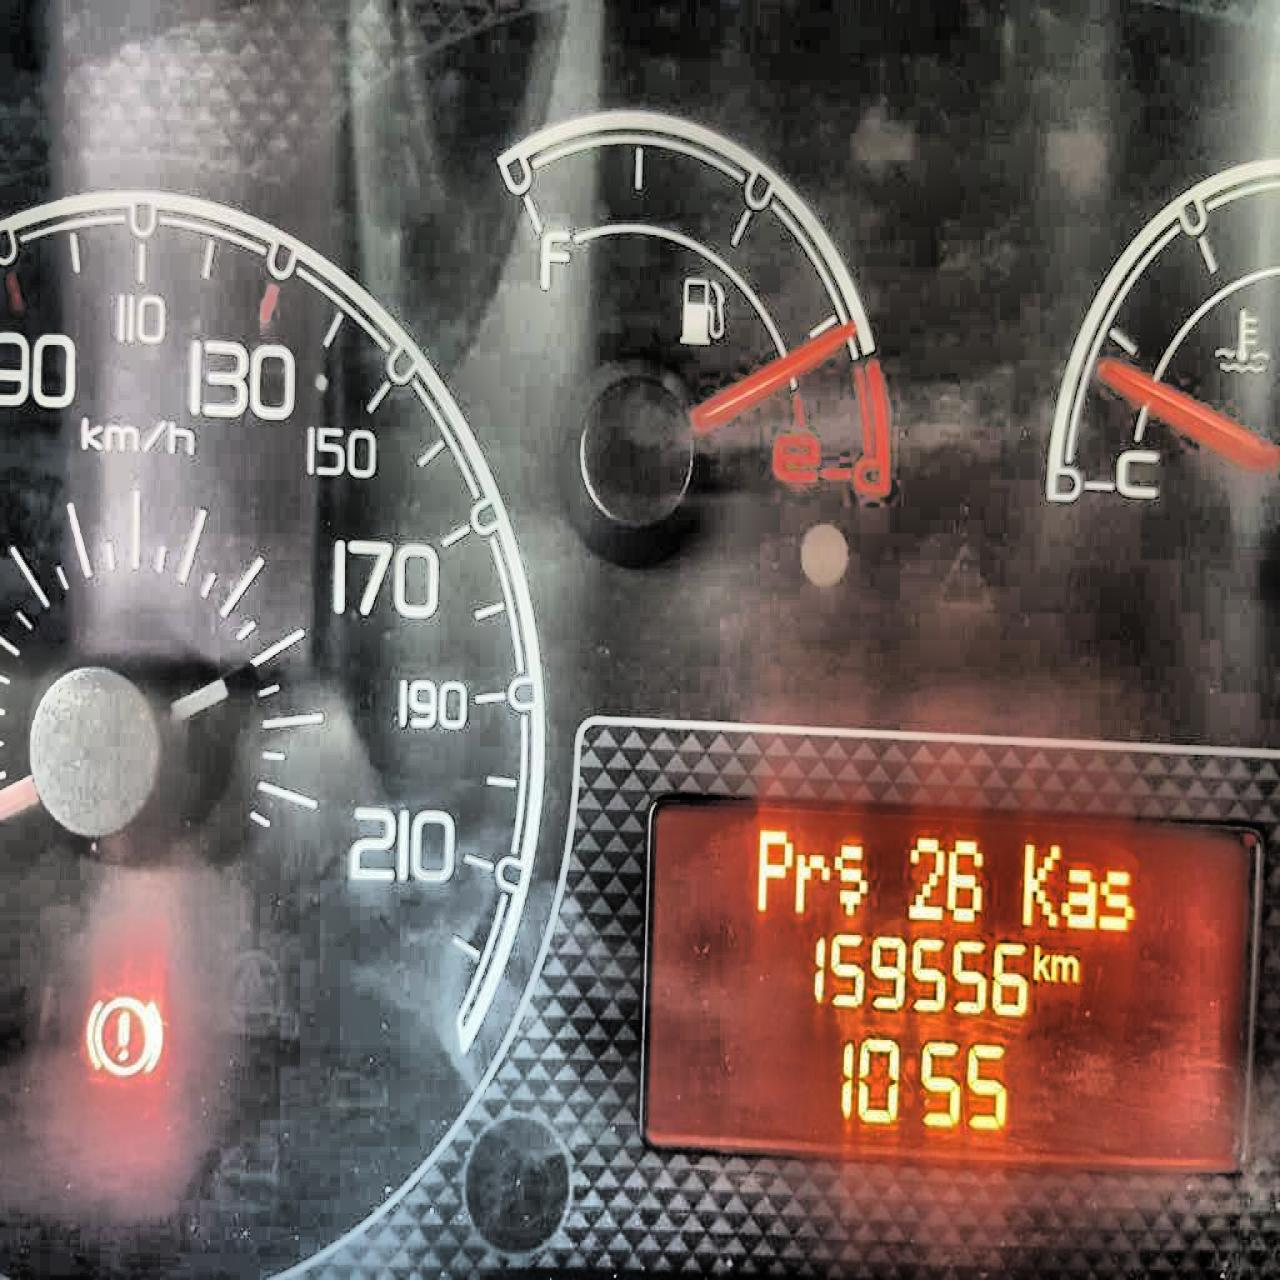0: (855, 1036, 901, 1125)
1: (838, 1040, 853, 1121), (810, 933, 826, 1003)
2: (906, 835, 945, 920)
5: (965, 1042, 1007, 1130), (919, 1040, 960, 1126), (948, 938, 986, 1015), (908, 935, 946, 1012), (829, 932, 865, 1007)
6: (945, 838, 983, 921), (989, 940, 1029, 1016)
9: (867, 933, 906, 1009)
X: (1019, 842, 1060, 926), (754, 829, 792, 913), (831, 843, 867, 914), (1096, 869, 1135, 932), (1060, 866, 1096, 931), (794, 852, 830, 913), (1050, 952, 1080, 981), (1032, 944, 1050, 982)
odometer: (635, 790, 1265, 1180)
